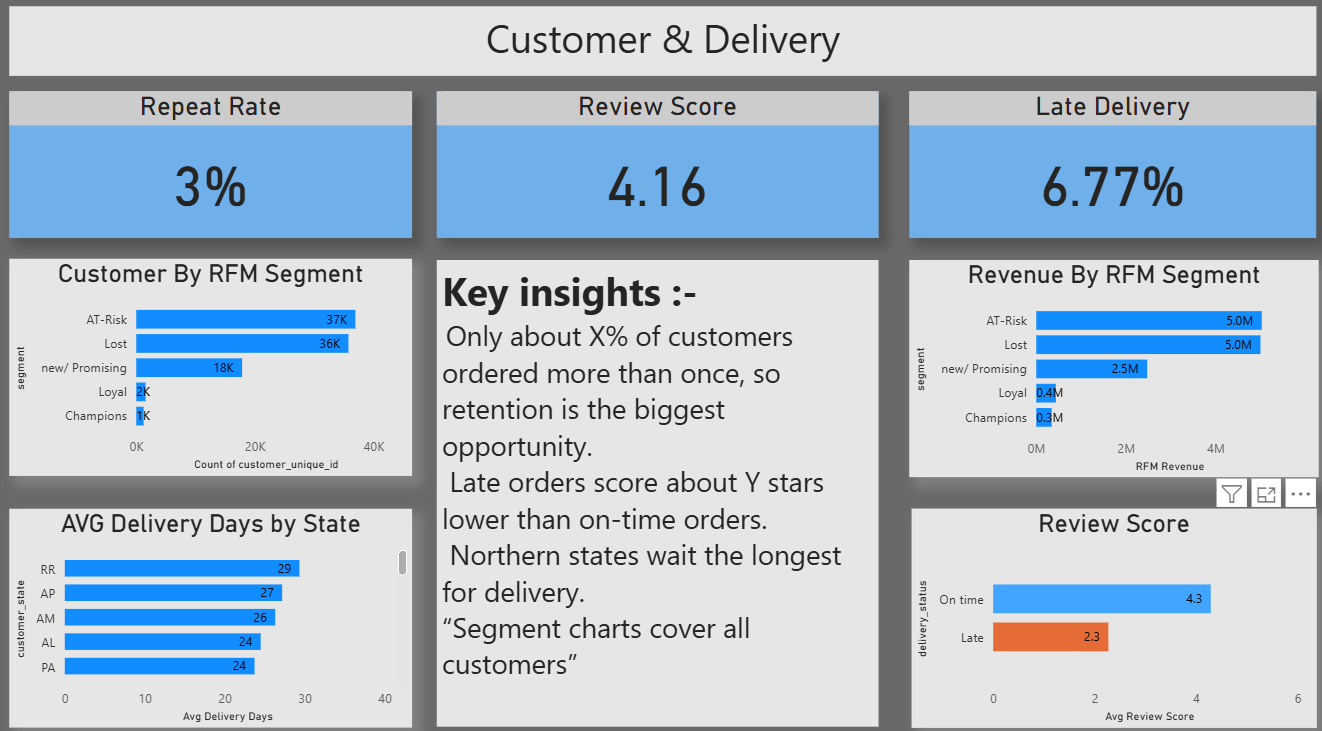

Layout of this report page (visuals, bound fields, positions):
{"tool":"powerbi","page":{"name":"Customer & Delivery","canvas":[1280,720],"ordinal":2},"visuals":[{"type":"card","title":"Repeat Rate","fields":{"Values":["rfm.Repeat Rate"]},"box":[10.3,92.7,388.9,141.6],"z":0},{"type":"card","title":"Review Score","fields":{"Values":["orders_clean.Avg Review Score"]},"box":[423.7,92.7,426.2,141.6],"z":1000},{"type":"card","title":"Late Delivery","fields":{"Values":["orders_clean.Late Delivery %"]},"box":[879.5,92.7,392.8,141.6],"z":2000},{"type":"clusteredBarChart","title":"Customer By RFM Segment","fields":{"Category":["rfm.segment"],"Y":["CountNonNull(rfm.customer_unique_id)"]},"box":[10.3,255,388.9,209.9],"z":3000},{"type":"clusteredBarChart","title":"Revenue By RFM Segment","fields":{"Category":["rfm.segment"],"Y":["rfm.RFM Revenue"]},"box":[879.5,256.3,395.3,209.9],"z":4000},{"type":"clusteredBarChart","title":"Review Score","fields":{"Category":["orders_clean.delivery_status"],"Y":["orders_clean.Avg Review Score"]},"box":[882.1,495.8,390.2,211.2],"z":5000},{"type":"clusteredBarChart","title":"AVG Delivery Days by State","fields":{"Category":["orders_clean.customer_state"],"Y":["orders_clean.Avg Delivery Days"]},"box":[10.3,495.8,388.9,211.2],"z":6000},{"type":"textbox","box":[423.7,256.3,426.2,450.7],"z":7000},{"type":"textbox","box":[10.3,10.3,1262,67],"z":8000}]}

Visuals, with their boxes in screenshot pixels (x1, y1, x2, y2), scaled from the page's 1280x720 canvas onto the 1322x731 screenshot:
"Repeat Rate" card: bbox(11, 94, 412, 238)
"Review Score" card: bbox(438, 94, 878, 238)
"Late Delivery" card: bbox(908, 94, 1314, 238)
"Customer By RFM Segment" clusteredBarChart: bbox(11, 259, 412, 472)
"Revenue By RFM Segment" clusteredBarChart: bbox(908, 260, 1317, 473)
"Review Score" clusteredBarChart: bbox(911, 503, 1314, 718)
"AVG Delivery Days by State" clusteredBarChart: bbox(11, 503, 412, 718)
textbox: bbox(438, 260, 878, 718)
textbox: bbox(11, 10, 1314, 78)
